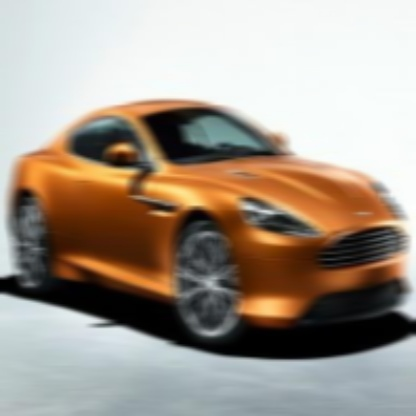Vehicle: (7, 94, 415, 368)
